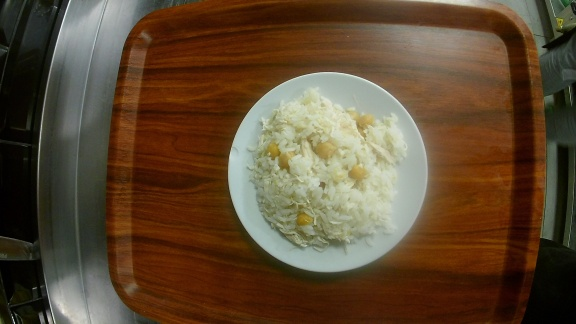nohutlupilav: (227, 73, 429, 272)
